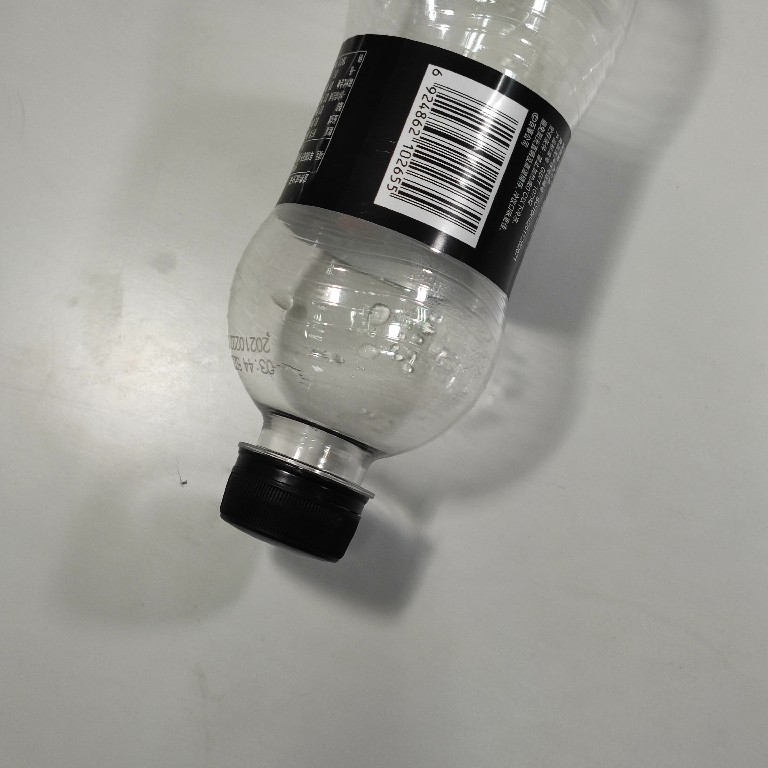bottle: (203, 1, 651, 576)
